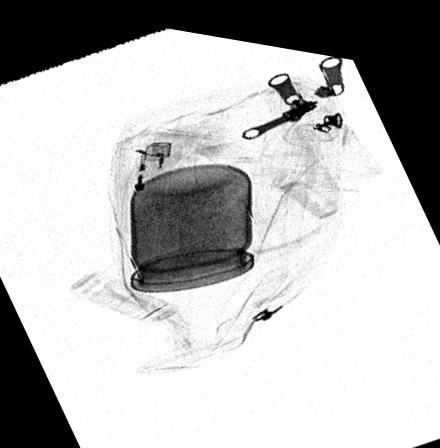Lighter: (130, 136, 172, 223)
